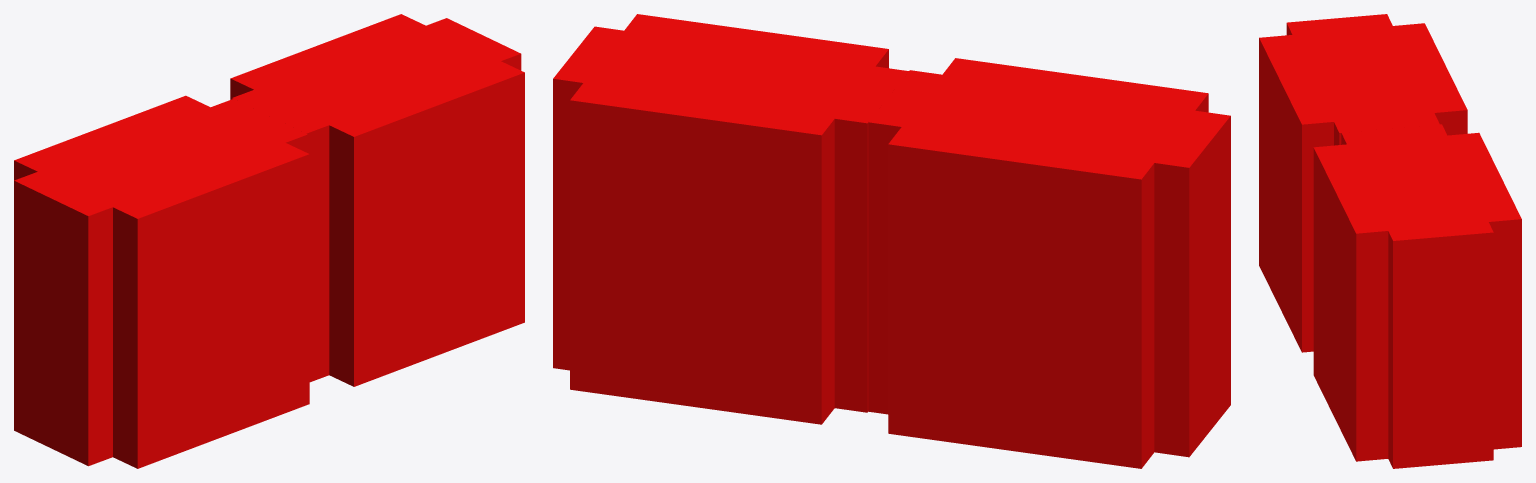
Rendered from PDV_Dummy_(T15_T16).fbx.
3 views of the same model, side by side, from view 1: azimuth 30°, elevation 25°; view 2: azimuth 150°, elevation 25°; view 3: azimuth 270°, elevation 25° (orthographic). The views are drawn at different scales.
Visible parts, largest first — view 1: Cube_1, Cube, Cube__1__1, Cube__1_; view 2: Cube_1, Cube, Cube__1__1, Cube__1_; view 3: Cube, Cube_1, Cube__1_, Cube__1__1.
Boxes of the visible parts, x1,y1,x2,y2 form: Cube_1: (14,95,309,468); Cube: (230,14,524,386); Cube__1__1: (14,99,307,466); Cube__1_: (231,18,521,382); Cube_1: (888,58,1208,468); Cube: (570,14,888,424); Cube__1__1: (868,70,1230,457); Cube__1_: (553,26,908,412); Cube: (1313,132,1521,461); Cube_1: (1259,23,1467,352); Cube__1_: (1341,124,1493,468); Cube__1__1: (1286,14,1439,145).
Bounding box in the file's own units: 3585 × 1678 × 1754.
